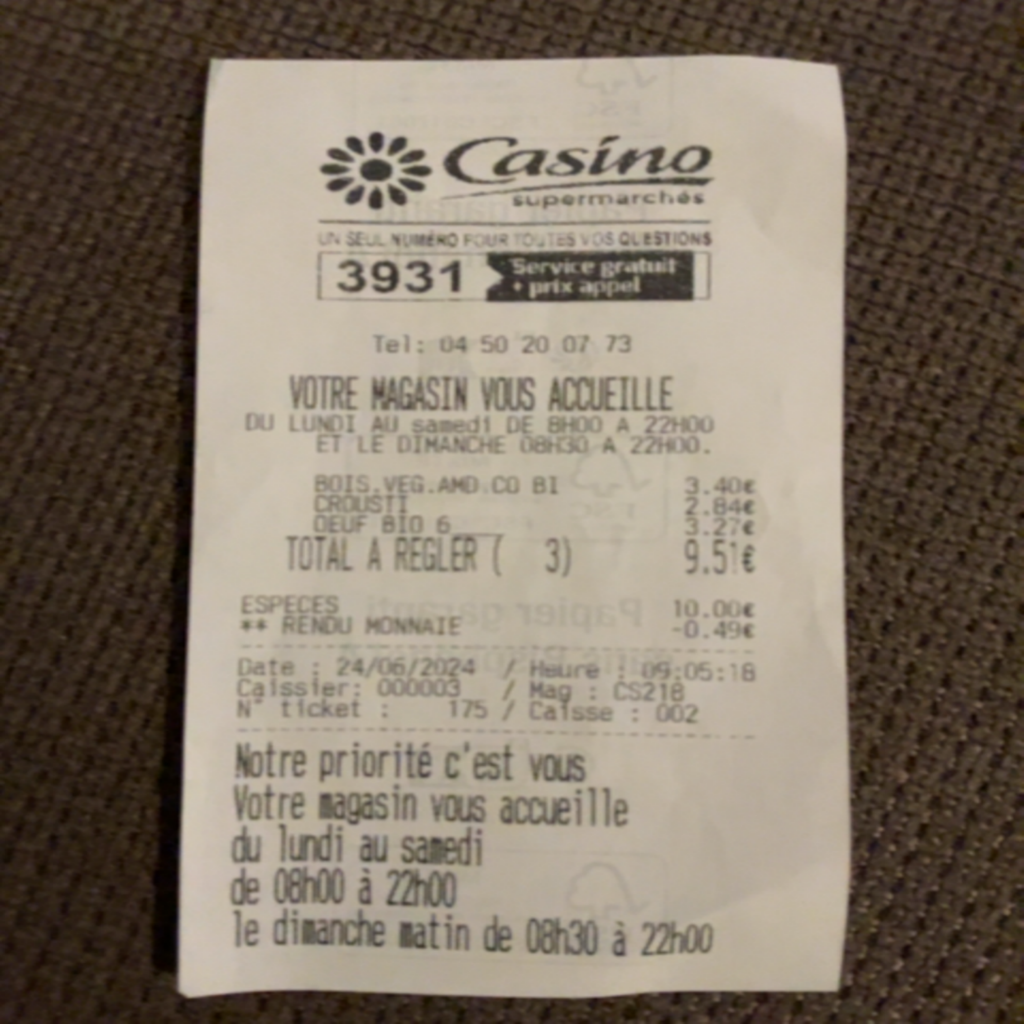recipt: (174, 53, 855, 1001)
